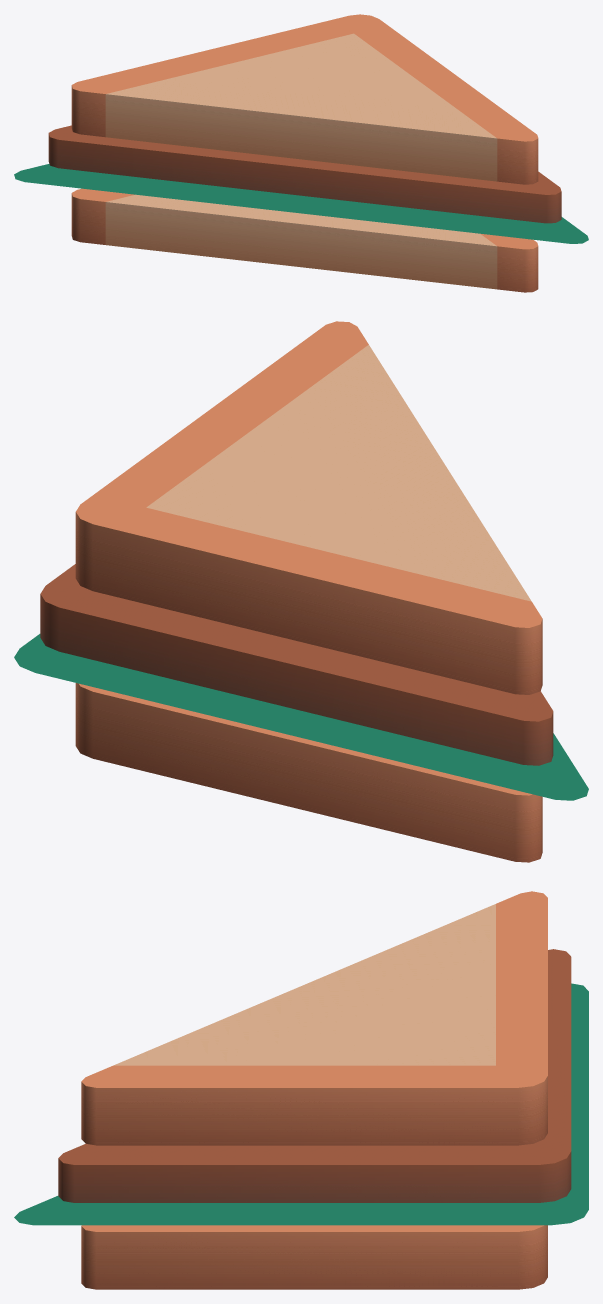
File: sandwich.glb
3 views of the same model, one above another, from view 1: azimuth 30°, elevation 25°; view 2: azimuth 150°, elevation 25°; view 3: azimuth 270°, elevation 25° (orthographic). The views are drawn at different scales.
Visible parts, largest first — view 1: bun (×2), meat, lettuce; view 2: bun (×2), meat, lettuce; view 3: bun (×2), meat, lettuce.
Part boxes in pixels (x1,y1,x2,y2): bun (×2): [71, 14, 538, 292]; meat: [48, 125, 561, 223]; lettuce: [14, 164, 588, 243]; bun (×2): [75, 321, 542, 862]; meat: [40, 564, 553, 765]; lettuce: [14, 634, 588, 800]; bun (×2): [81, 891, 547, 1289]; meat: [58, 949, 571, 1202]; lettuce: [14, 983, 588, 1225].
Size of the model in its own units: 0.4323 by 0.168 by 0.4339.
1 material, 1 textured.
